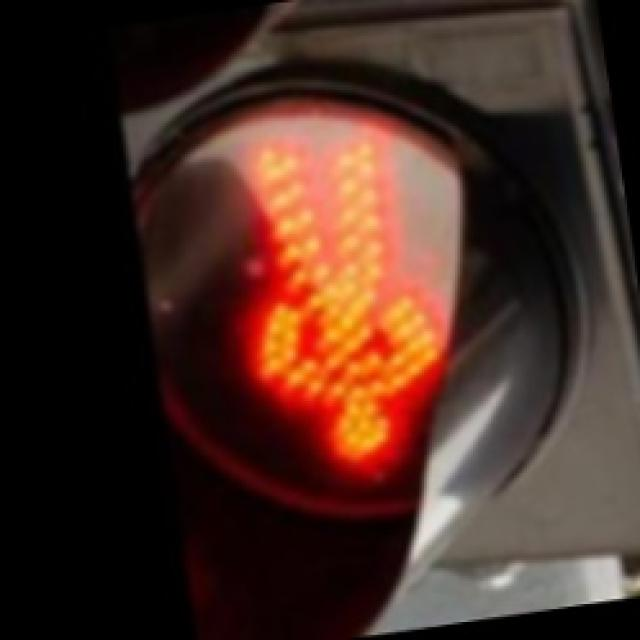red_light: (154, 85, 481, 547)
